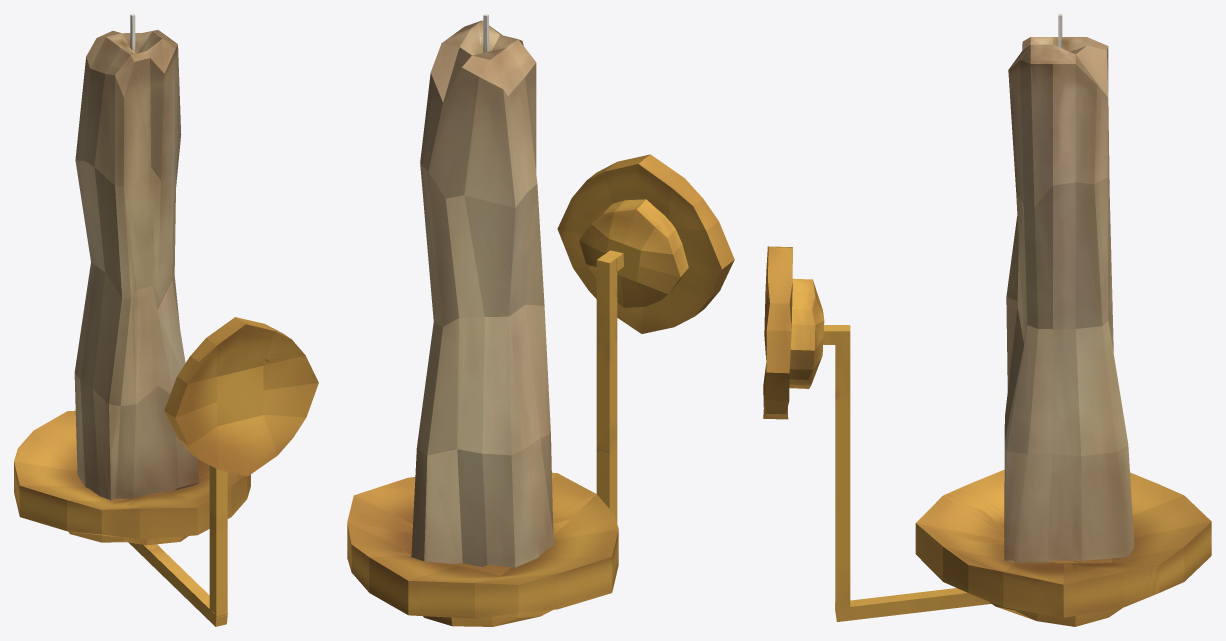
Rendered from candle2.fbx.
3 views of the same model, side by side, from view 1: azimuth 30°, elevation 25°; view 2: azimuth 150°, elevation 25°; view 3: azimuth 270°, elevation 25° (orthographic). The views are drawn at different scales.
Visible parts, largest first — view 1: candle, goldenStick; view 2: candle, goldenStick; view 3: candle, goldenStick.
Boxes of the visible parts, box(x1,y1,x2,y2) form: candle: box(74, 14, 199, 500); goldenStick: box(14, 317, 318, 626); candle: box(411, 14, 554, 567); goldenStick: box(347, 154, 734, 626); candle: box(1004, 14, 1134, 562); goldenStick: box(763, 246, 1211, 626).
Bounding box in the file's own units: 59.81 × 136 × 90.64.
Materials: 2 (2 with a texture image).
